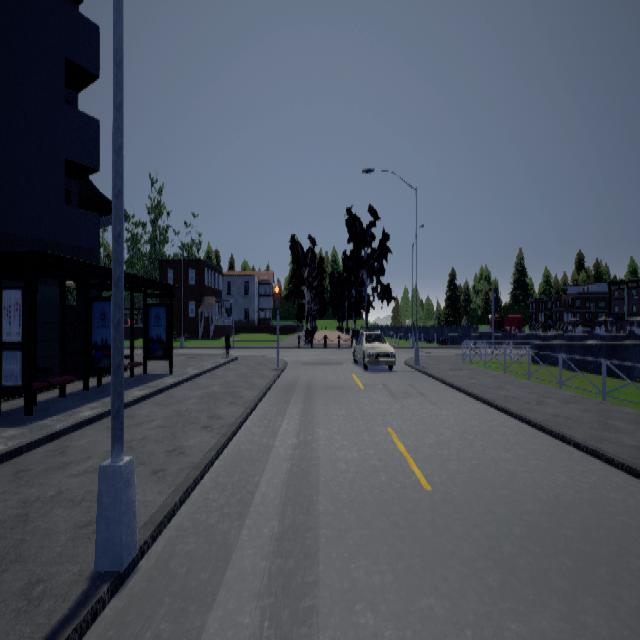red_light: (276, 280, 281, 313)
vehicle: (353, 330, 397, 369)
